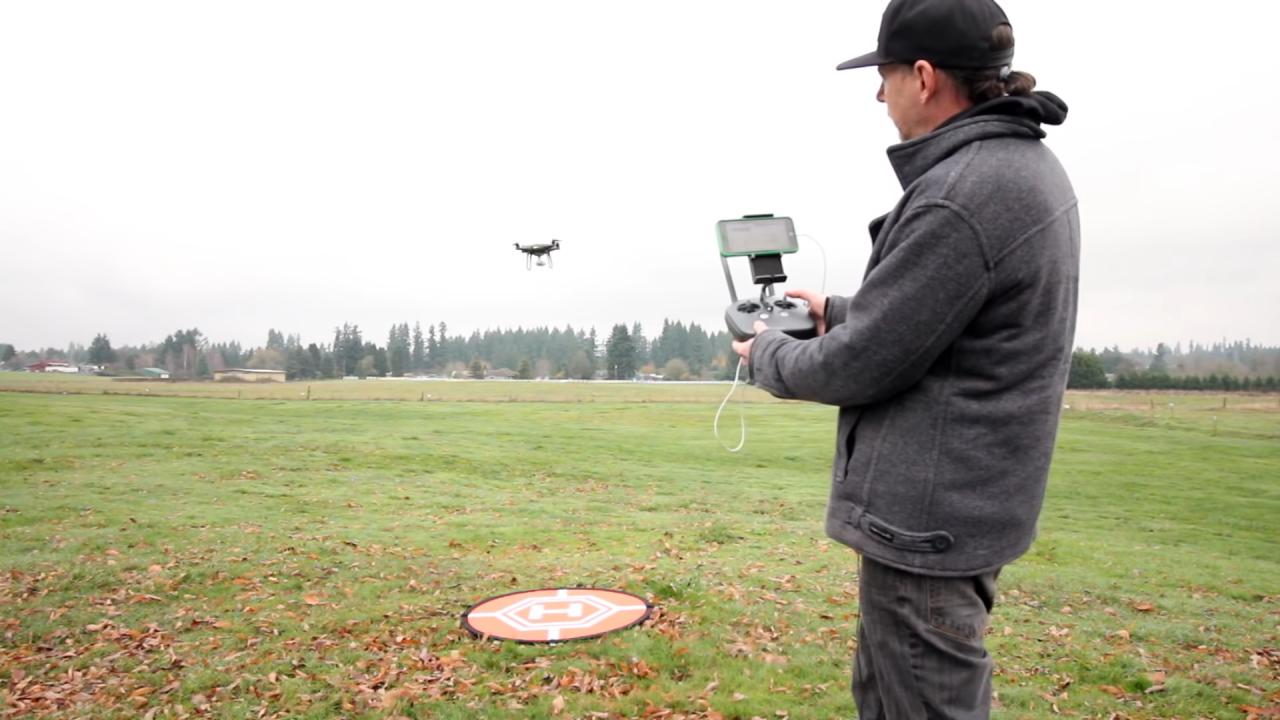Drone: (501, 234, 577, 276)
